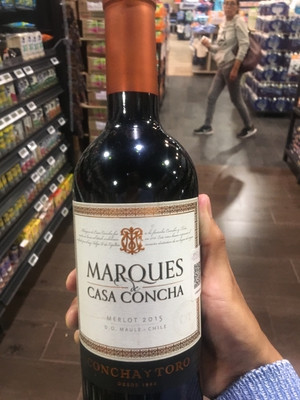marques de casa concha merlot: (73, 12, 224, 400)
